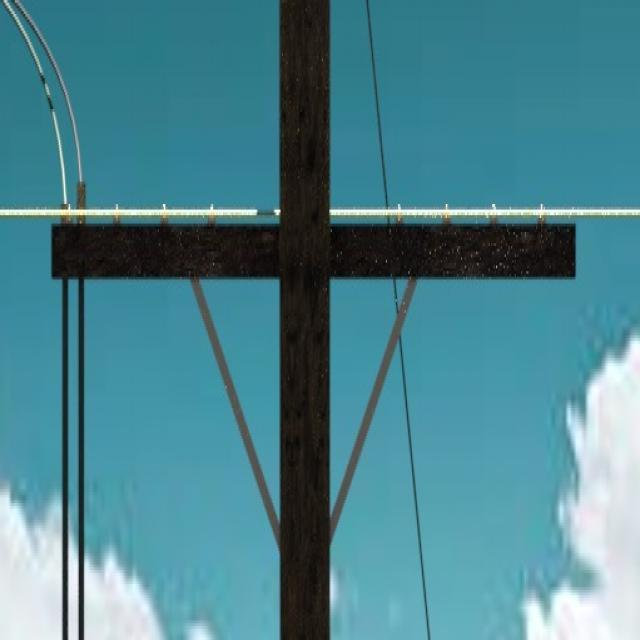crossarm: (50, 221, 577, 285), (188, 277, 279, 534), (332, 277, 418, 542)
pole: (277, 0, 332, 640)
wire: (1, 204, 640, 224)
